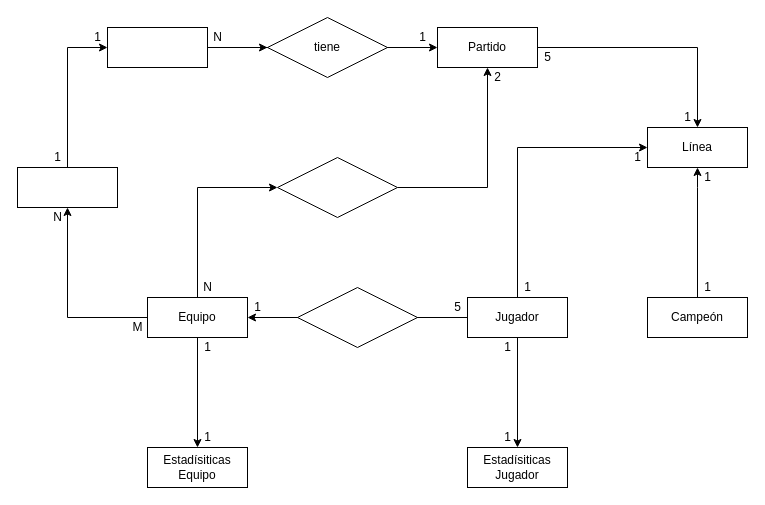
This 765x505 diagram has some shape labels left out. Here are the shapes that lost their labels. From the top down, the box of each, then its label:
(106, 26, 208, 68): Torneo
(16, 166, 118, 208): Clasificación
(276, 156, 398, 218): Juega
(296, 286, 418, 348): Pertenece a
